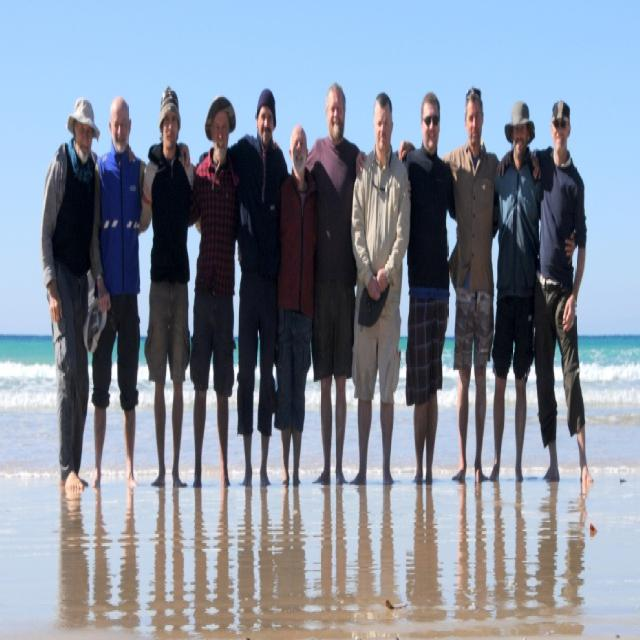body: (51, 479, 592, 638), (397, 84, 542, 484), (353, 89, 458, 488), (89, 92, 192, 494), (38, 94, 137, 494), (196, 85, 293, 491), (494, 97, 594, 486), (236, 124, 318, 491), (302, 80, 367, 488), (138, 84, 202, 492), (349, 88, 412, 488), (186, 92, 240, 492), (487, 98, 542, 485)
